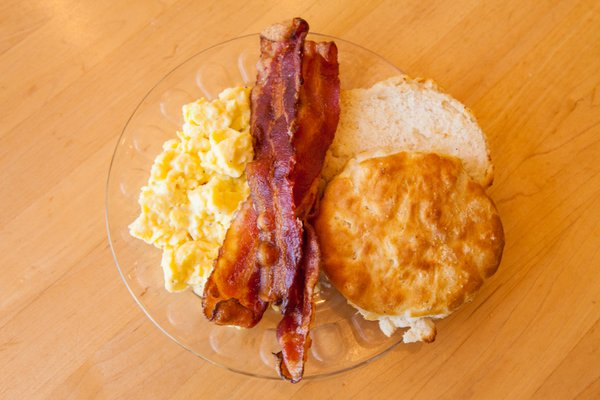soup: (202, 14, 402, 382)
